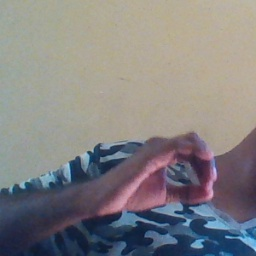O: (96, 128, 220, 217)
